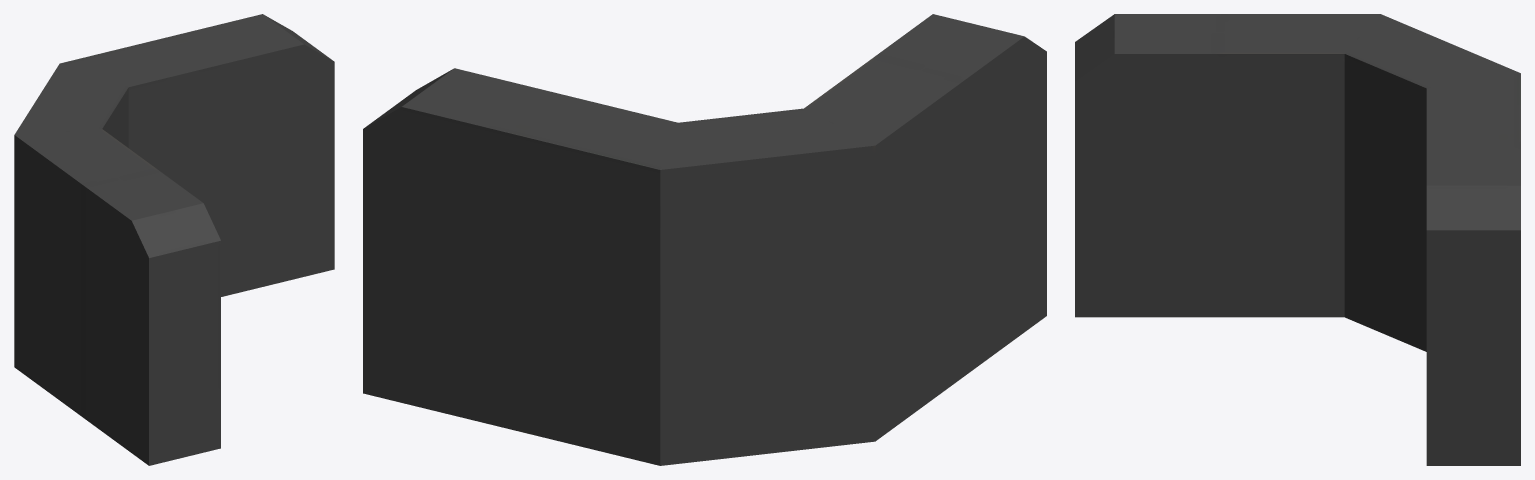
The picture shows the model from 3 angles, left to right: view 1: azimuth 30°, elevation 25°; view 2: azimuth 150°, elevation 25°; view 3: azimuth 270°, elevation 25°; orthographic projection. The views are drawn at different scales.
Visible parts, largest first — view 1: Chest2; view 2: Chest2; view 3: Chest2.
Boxes of the visible parts, box(x1,y1,x2,y2) form: Chest2: box(14, 14, 334, 465); Chest2: box(363, 14, 1046, 465); Chest2: box(1075, 14, 1520, 465).
Bounding box in the file's own units: 0.5715 × 0.3729 × 0.5715.
Materials: 1 (1 with a texture image).
